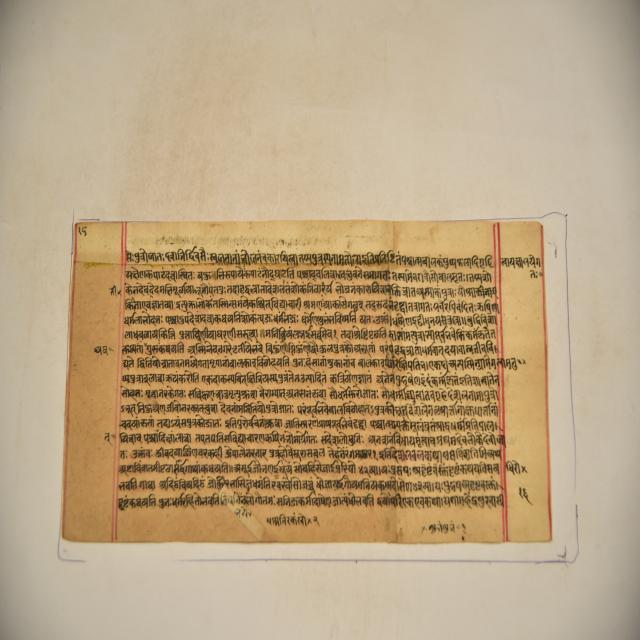text_paragraph: (62, 221, 548, 552)
